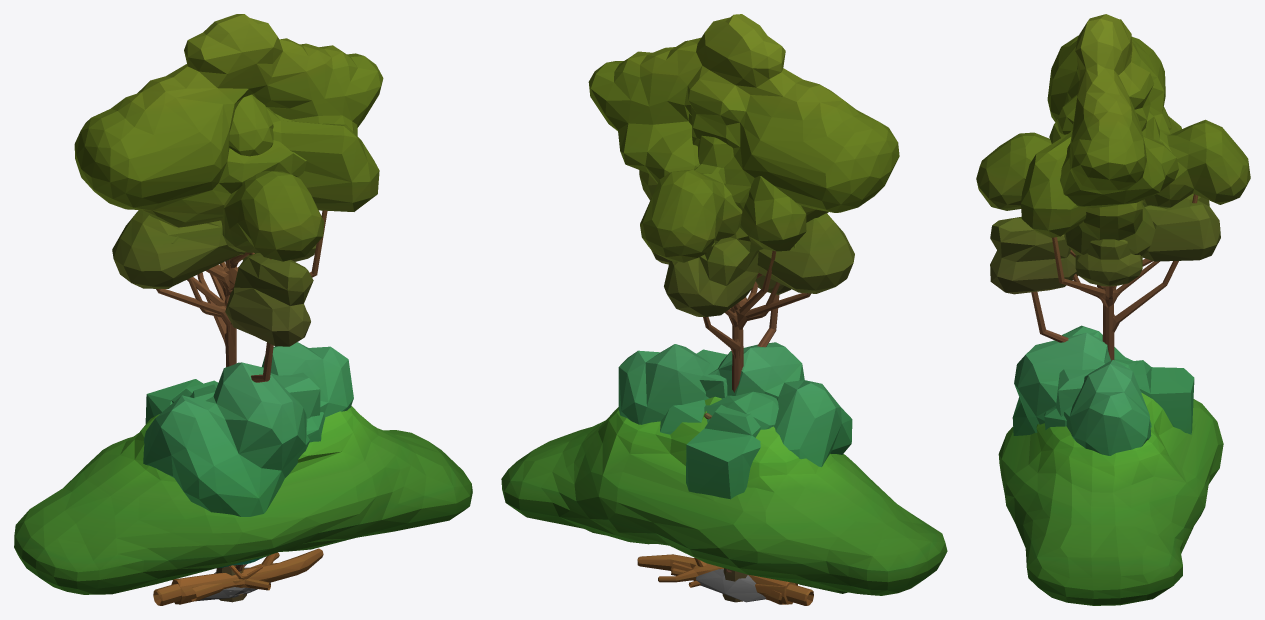
The model's file is ModeladoOtrosAssets.fbx.
3 renders of one model, left to right at view 1: azimuth 30°, elevation 25°; view 2: azimuth 150°, elevation 25°; view 3: azimuth 270°, elevation 25°, orthographic. The views are drawn at different scales.
Visible parts, largest first — view 1: Andiroba01, Eucalipto01, Arbol01, Eucalipto02, Eucalipto03, Eucalipto04, Arbol03, Tronco02, Arbol05, Tronco03, Tronco04; view 2: Andiroba01, Eucalipto01, Arbol01, Eucalipto02, Eucalipto03, Arbol03, Eucalipto04, Arbol05, Tronco02, Piedra02; view 3: Andiroba01, Eucalipto01, Eucalipto02, Arbol01, Eucalipto03, Arbol03, Eucalipto04, Eucalipto05, Arbol05.
Boxes of the visible parts, x1=… form: Andiroba01: x1=14, y1=406, x2=472, y2=595; Eucalipto01: x1=74, y1=14, x2=383, y2=363; Arbol01: x1=143, y1=342, x2=353, y2=516; Eucalipto02: x1=187, y1=107, x2=379, y2=382; Eucalipto03: x1=216, y1=94, x2=324, y2=298; Eucalipto04: x1=112, y1=210, x2=255, y2=367; Arbol03: x1=145, y1=372, x2=320, y2=423; Tronco02: x1=172, y1=548, x2=323, y2=604; Arbol05: x1=190, y1=384, x2=325, y2=442; Tronco03: x1=191, y1=578, x2=270, y2=601; Tronco04: x1=153, y1=565, x2=263, y2=605; Andiroba01: x1=501, y1=396, x2=947, y2=595; Eucalipto01: x1=588, y1=14, x2=899, y2=392; Arbol01: x1=618, y1=342, x2=852, y2=467; Eucalipto02: x1=664, y1=176, x2=806, y2=369; Eucalipto03: x1=640, y1=135, x2=742, y2=311; Arbol03: x1=686, y1=349, x2=760, y2=499; Eucalipto04: x1=639, y1=170, x2=854, y2=381; Arbol05: x1=660, y1=391, x2=778, y2=434; Tronco02: x1=637, y1=554, x2=797, y2=588; Piedra02: x1=696, y1=569, x2=765, y2=602; Andiroba01: x1=998, y1=393, x2=1223, y2=605; Eucalipto01: x1=1047, y1=14, x2=1178, y2=360; Eucalipto02: x1=990, y1=107, x2=1220, y2=342; Arbol01: x1=1012, y1=325, x2=1151, y2=455; Eucalipto03: x1=976, y1=94, x2=1250, y2=288; Arbol03: x1=1055, y1=360, x2=1194, y2=434; Eucalipto04: x1=1064, y1=200, x2=1155, y2=306; Eucalipto05: x1=1075, y1=200, x2=1142, y2=299; Arbol05: x1=1044, y1=352, x2=1151, y2=429.
Bounding box in the file's own units: 676 × 884 × 403.
1 material, 1 textured.
